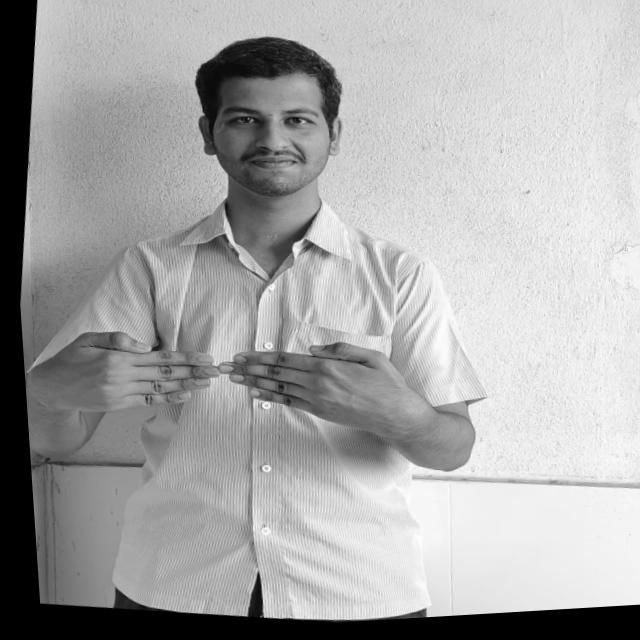Night: (19, 306, 423, 456)
